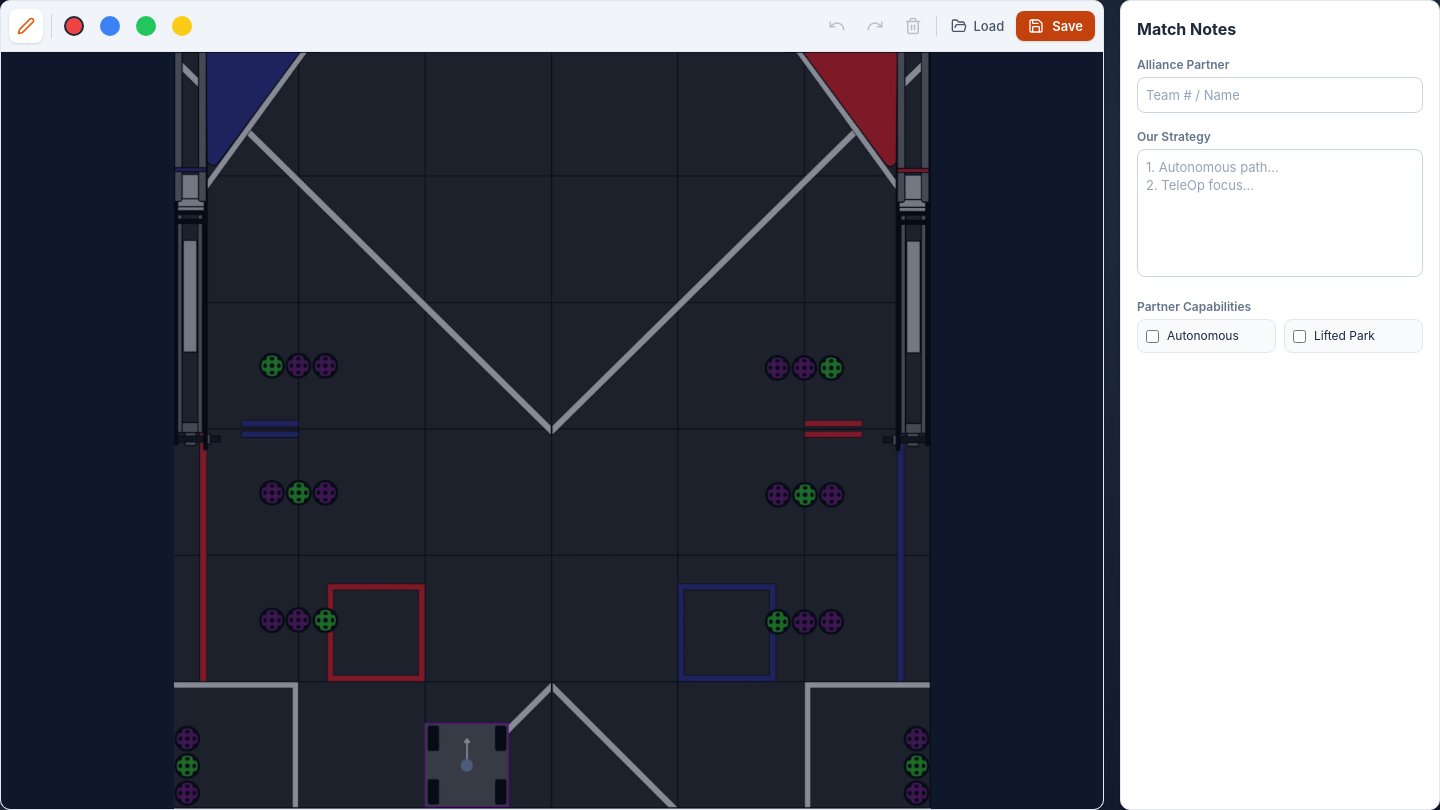
Test: MatchPlanner › Delete Plan Confirmation › shows delete confirmation modal before deleting a plan
The width and height of the screenshot is (1440, 810).
// Open load modal
Step 1. Click the button titled "Load Plans" → [978, 26], box [944, 11, 1012, 41]
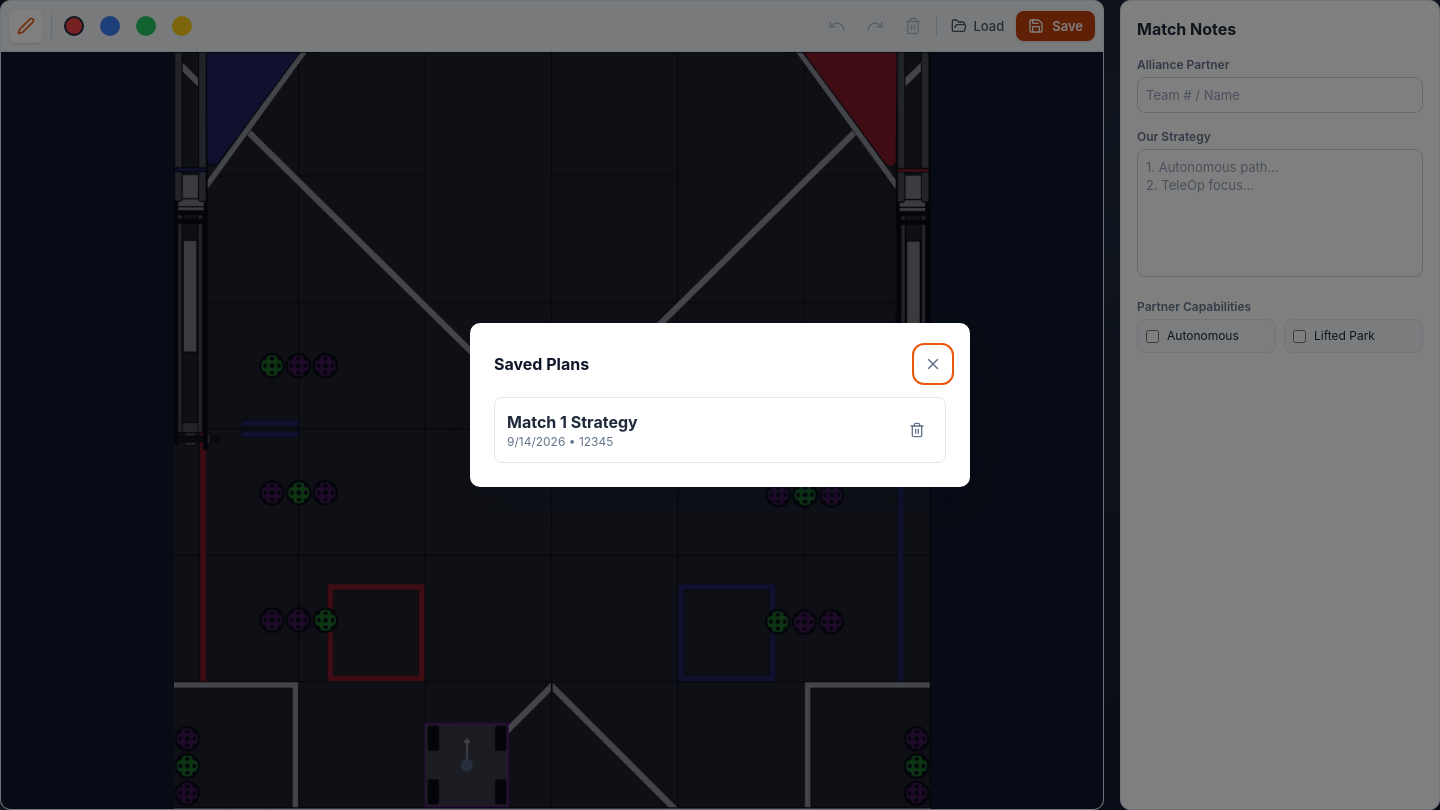
// Find and click the delete button
Step 2. Click the button with test id "delete-matchplan-button" → [917, 430], box [901, 414, 933, 446]
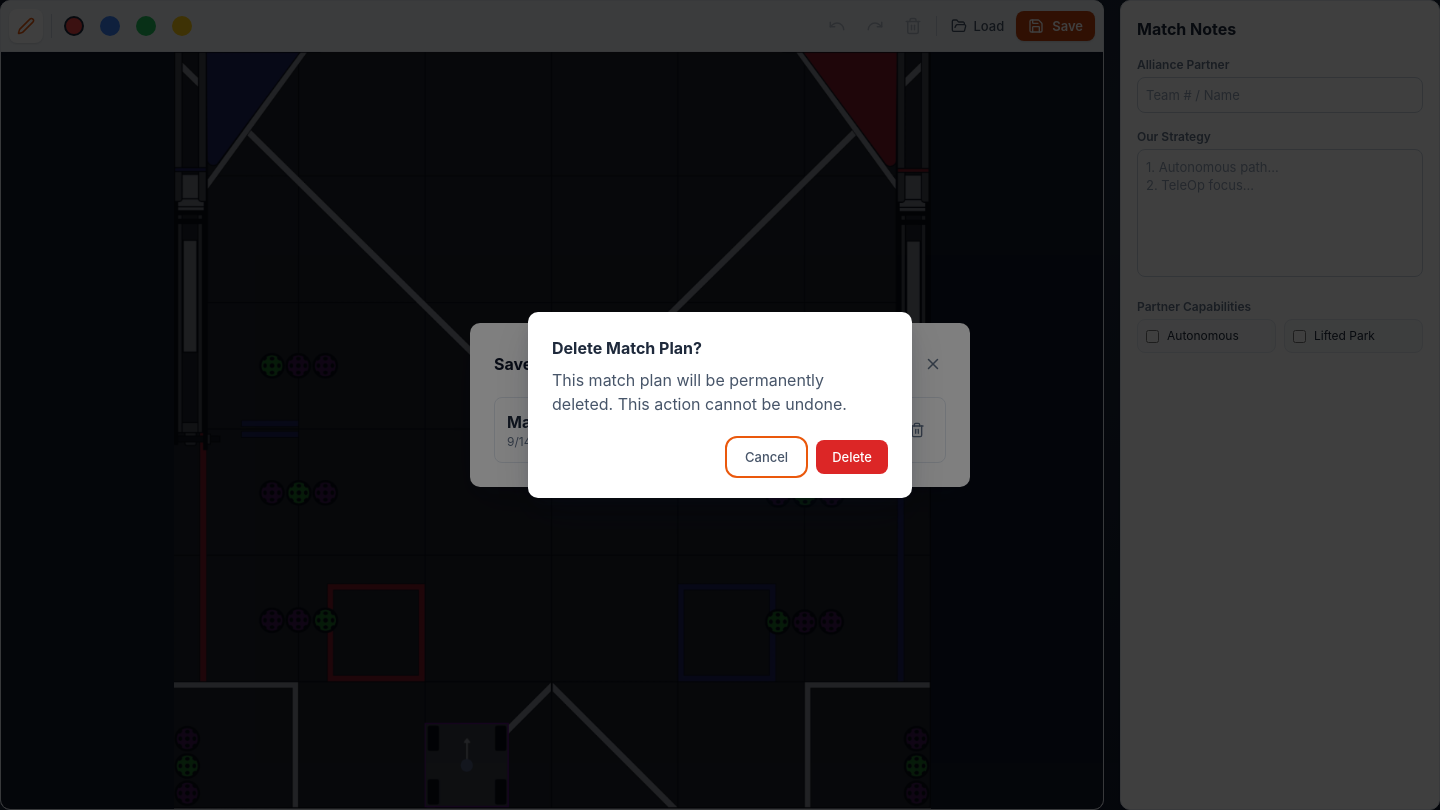
Expected: the heading "Delete Match Plan?" is shown, [552, 338, 702, 358]
Expected: the text "permanently deleted" is shown, [552, 370, 847, 414]
